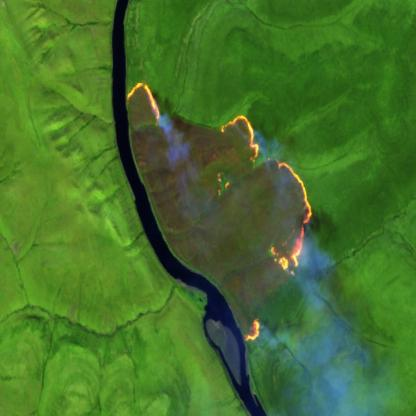fire: (126, 69, 315, 352)
